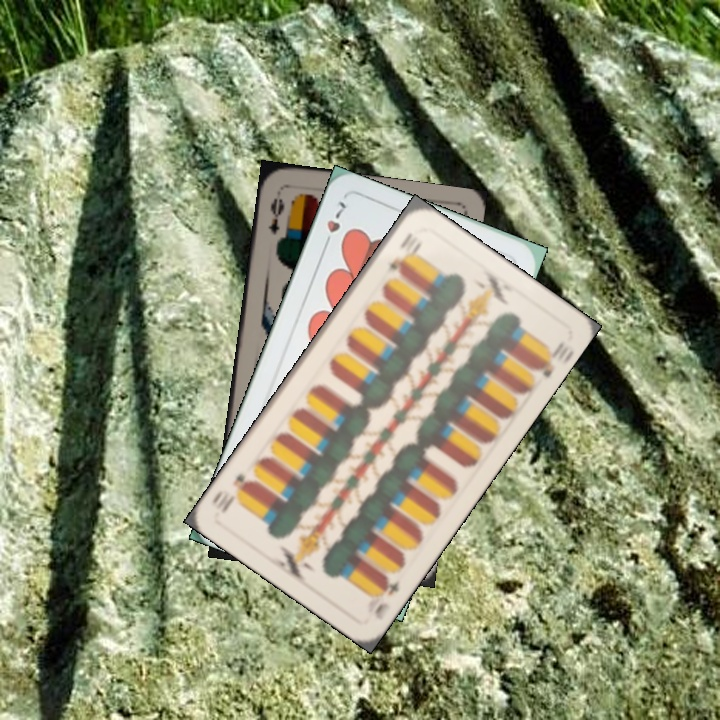E10: (370, 572, 403, 623), (385, 228, 422, 273)
EO: (264, 194, 287, 238)
H7: (319, 197, 349, 252)
